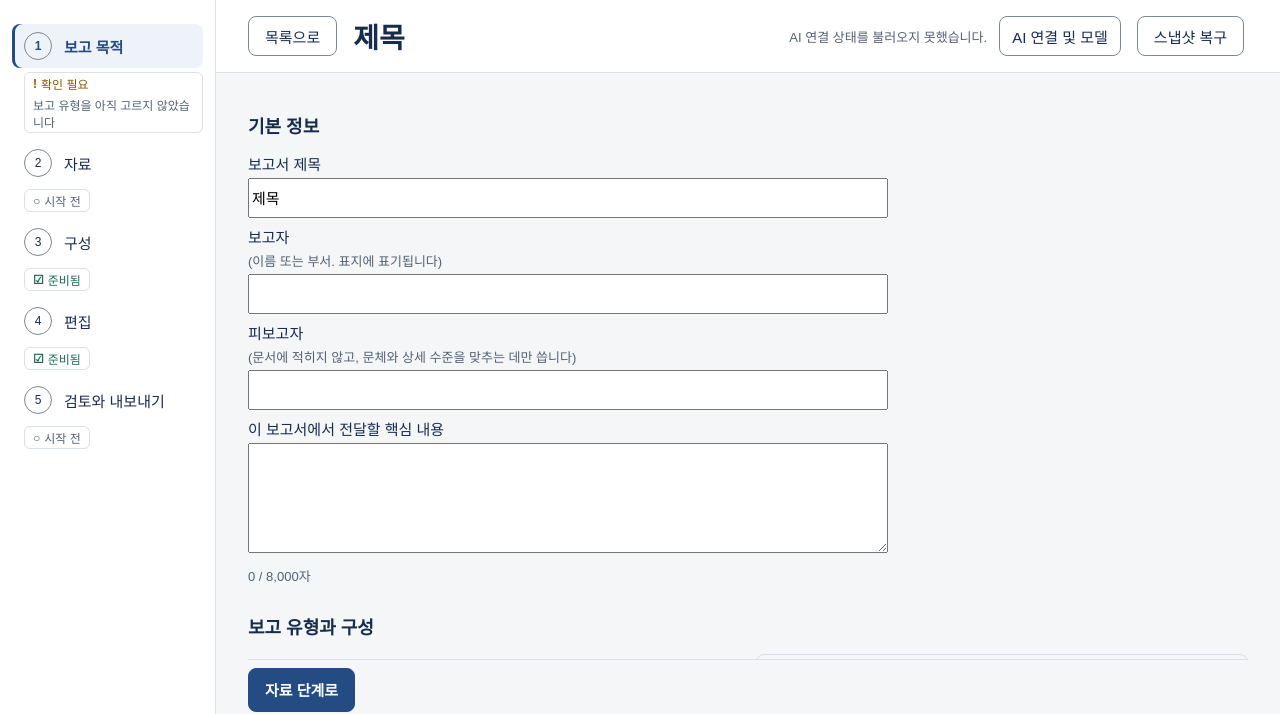
it: 내보내기는 스냅샷을 먼저 남기고 경로를 보여준다
Click the button "5 검토와 내보내기" at (108, 400), box [12,378,203,422]
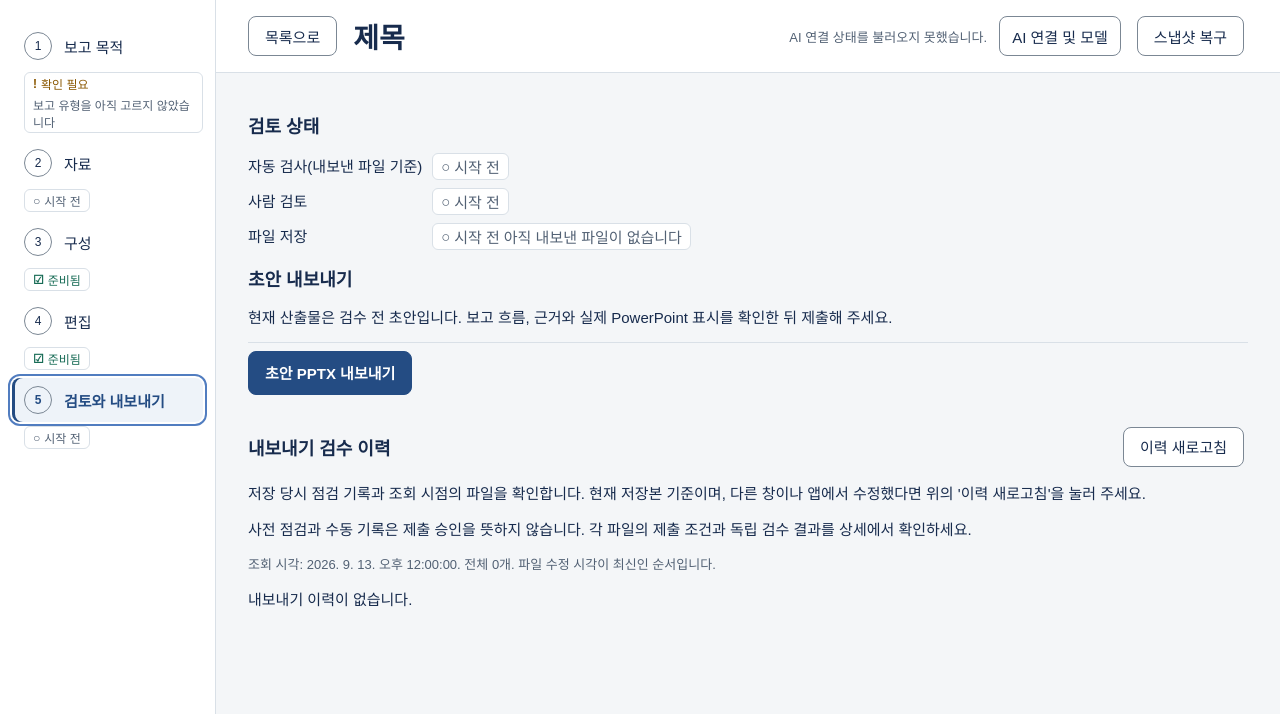
Click the button "초안 PPTX 내보내기" at (330, 373), box [248,351,412,395]
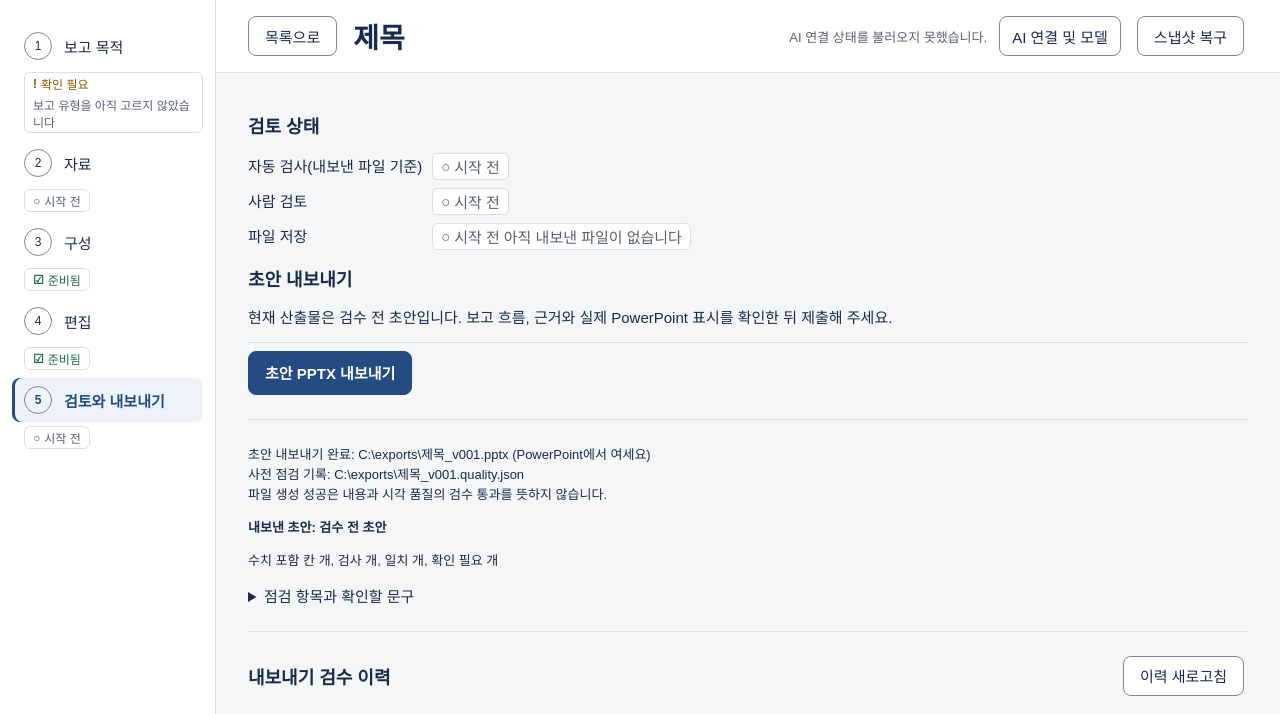
Now the text "제목_v001.pptx" shows "초안 내보내기 완료", box [248,447,358,462]
Now the text "제목_v001.pptx" shows "C:\\exports\\제목_v001.quality.json", box [334,467,524,482]
Now the text "제목_v001.pptx" shows "검수 통과를 뜻하지 않습니다", box [248,487,607,502]
